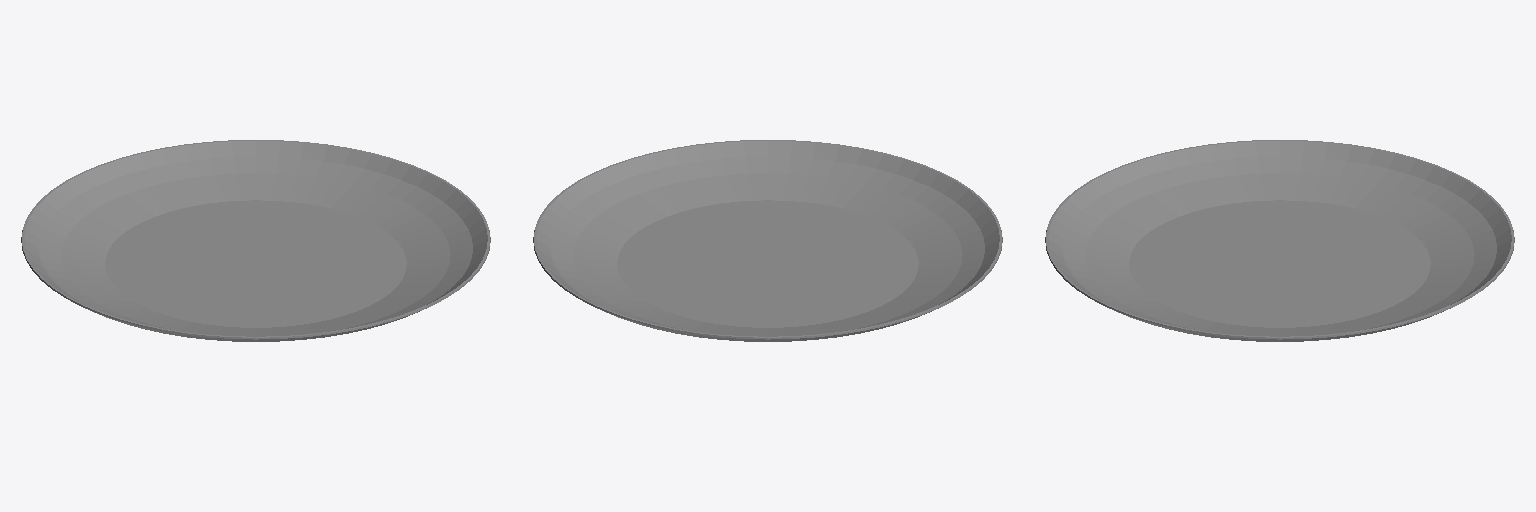
File: Plate.obj
3 renders of one model, left to right at view 1: azimuth 30°, elevation 25°; view 2: azimuth 150°, elevation 25°; view 3: azimuth 270°, elevation 25°, orthographic.
Visible parts, largest first — view 1: Plate; view 2: Plate; view 3: Plate.
Part boxes in pixels (x1,y1,x2,y2): Plate: (21,140,490,341); Plate: (533,140,1002,341); Plate: (1045,140,1514,341).
Bounding box in the file's own units: 8.33 × 0.677 × 8.33.